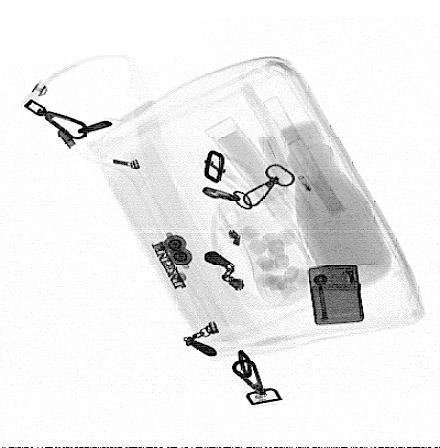Lighter: (308, 263, 365, 325)
